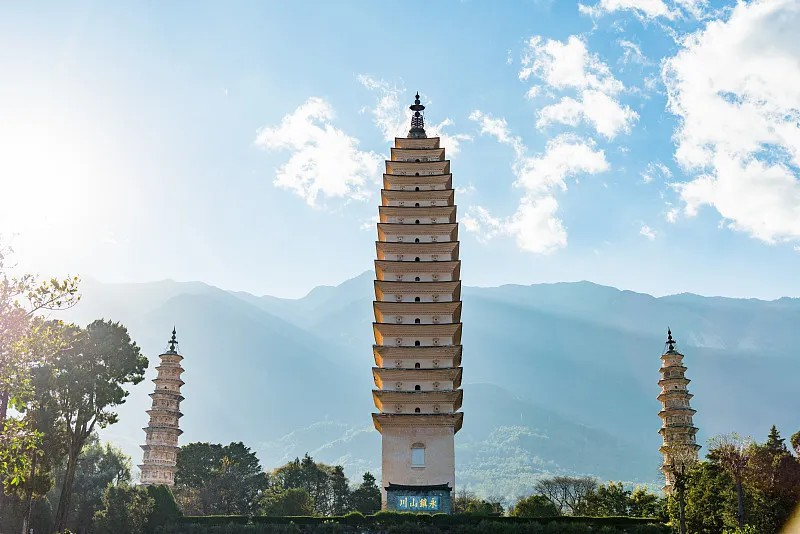ThreePagoda: (372, 92, 464, 513)
